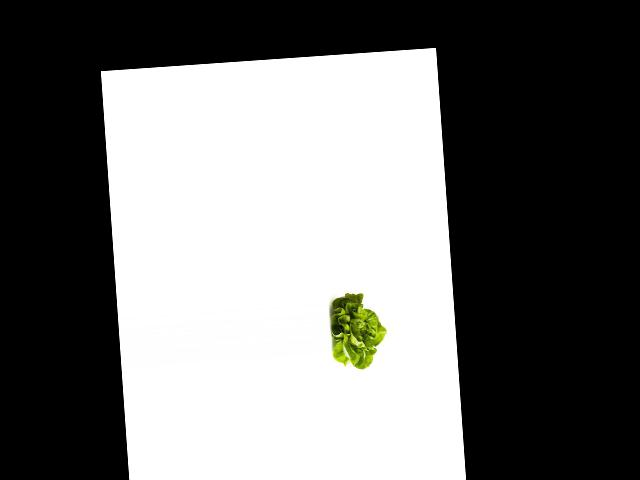lettuce: (327, 289, 388, 373)
